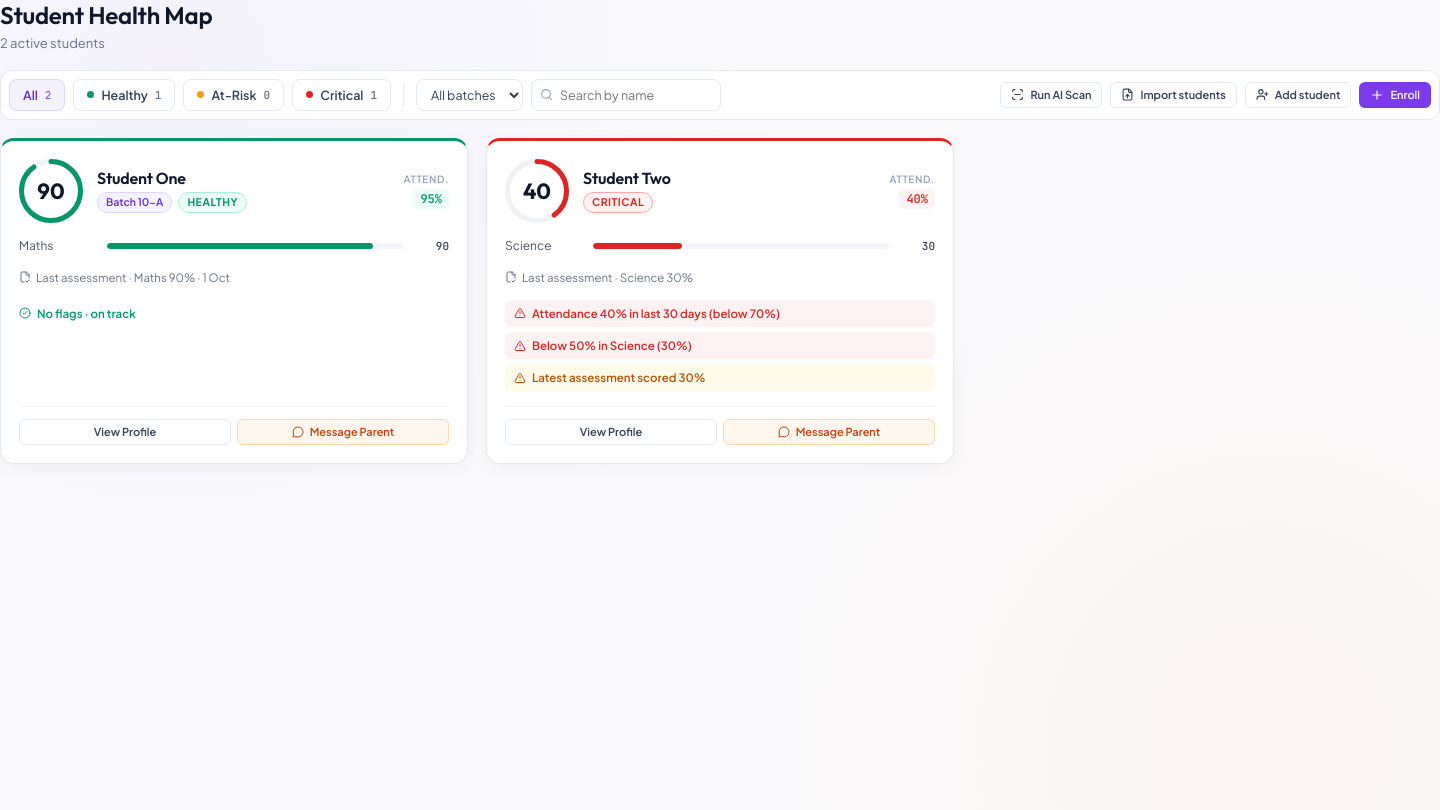
Scenario: StudentHealthView › enrolls an existing student into a batch
Expected: the heading "Student One" is shown, [97, 168, 186, 188]
Click the button "Enroll".
click(1395, 94)  # box [1359, 82, 1431, 108]
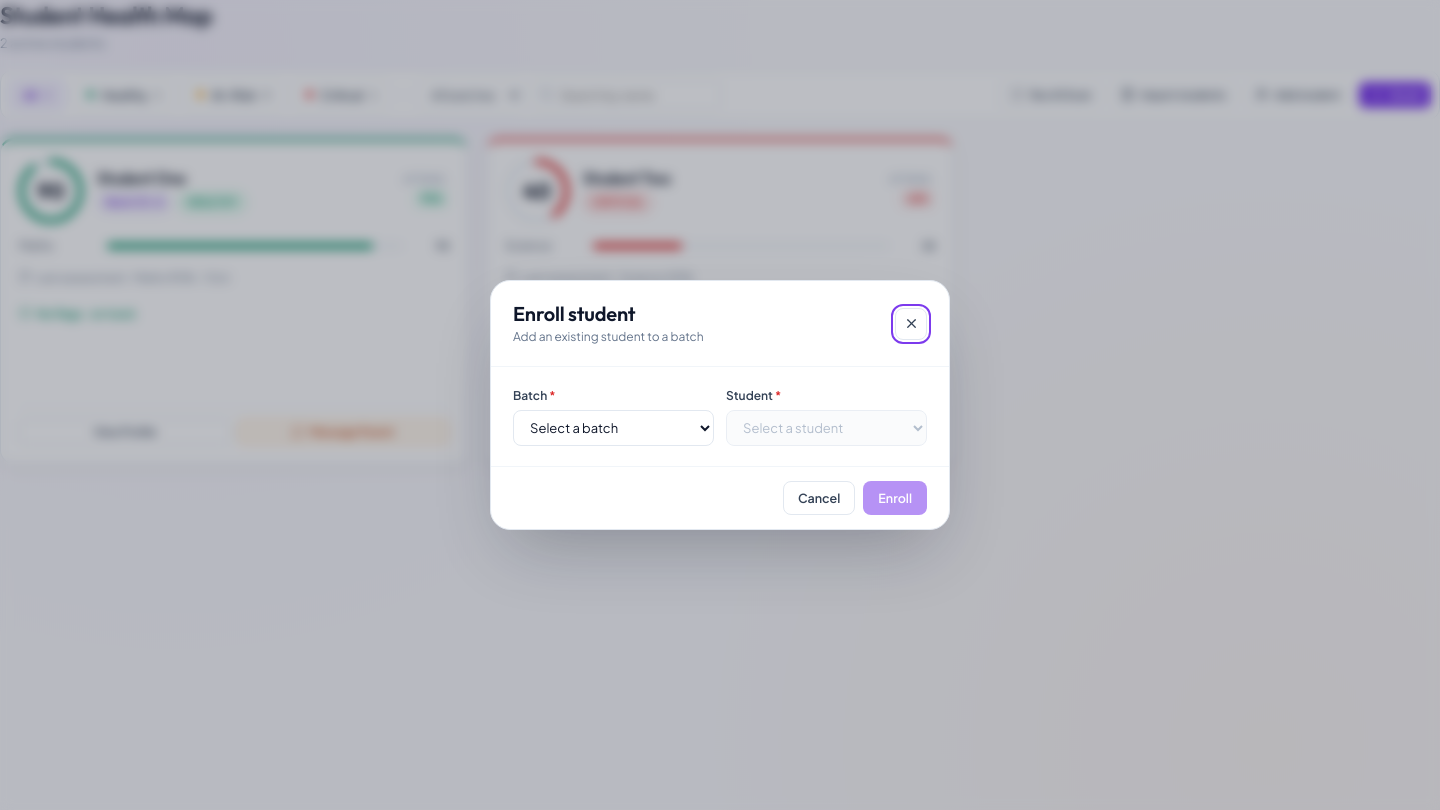
Select "Class 10 · 10-A" in the dropdown labelled "Batch*" at [614, 428], box [513, 410, 714, 446]
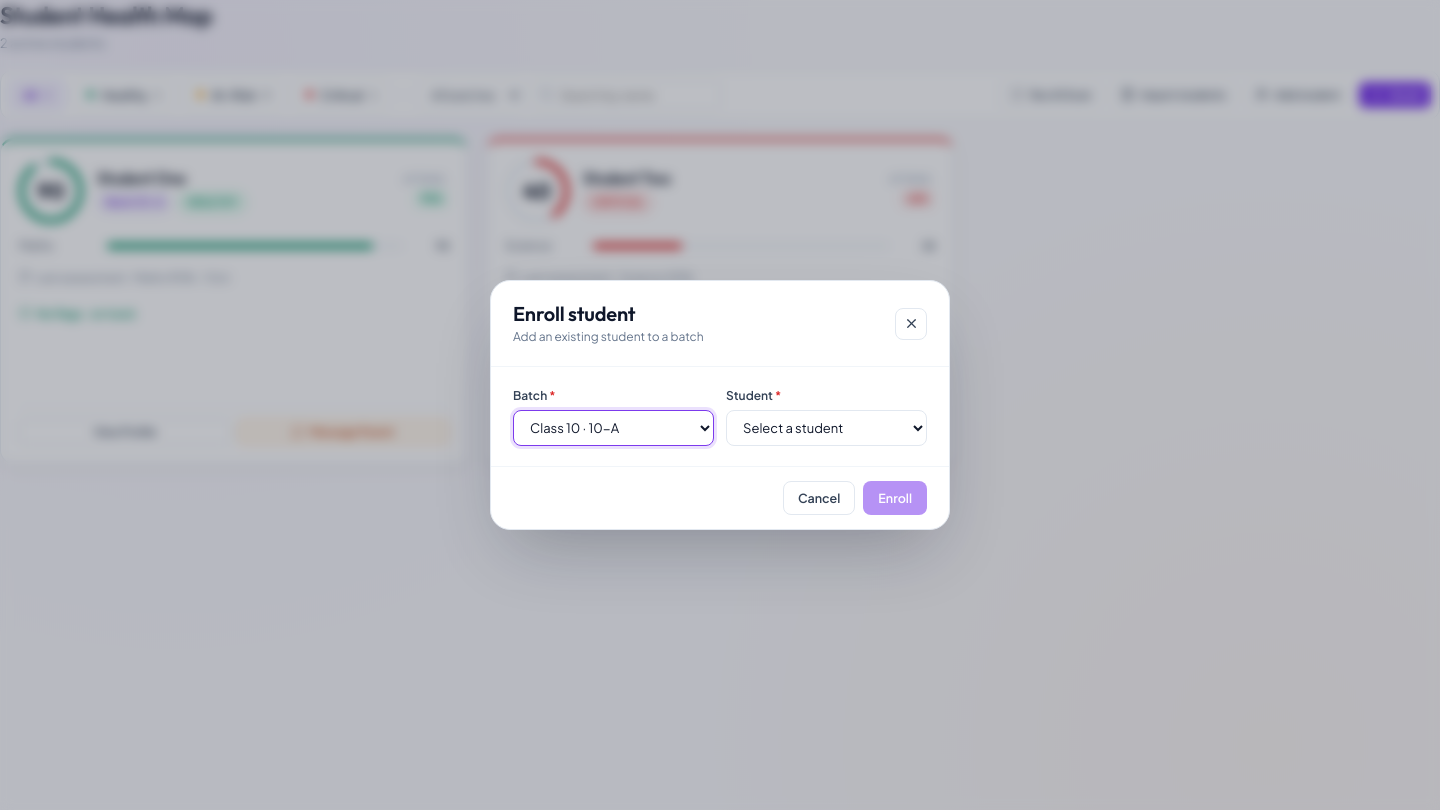
Select "Student Two (parent: Parent One)" in the dropdown labelled "Student*" at [826, 428], box [726, 410, 927, 446]
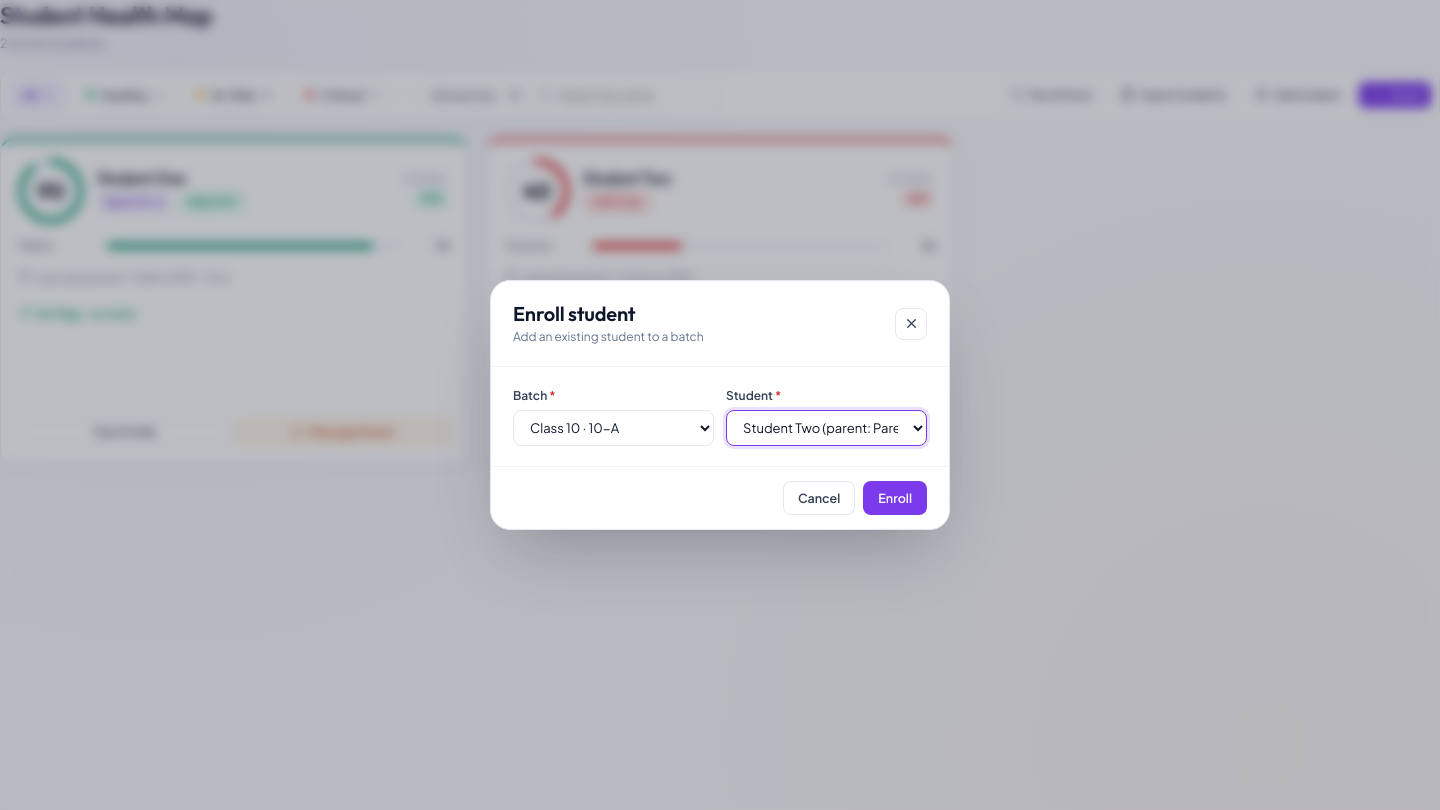
Click the button "Enroll".
click(895, 498)  # box [863, 481, 927, 515]
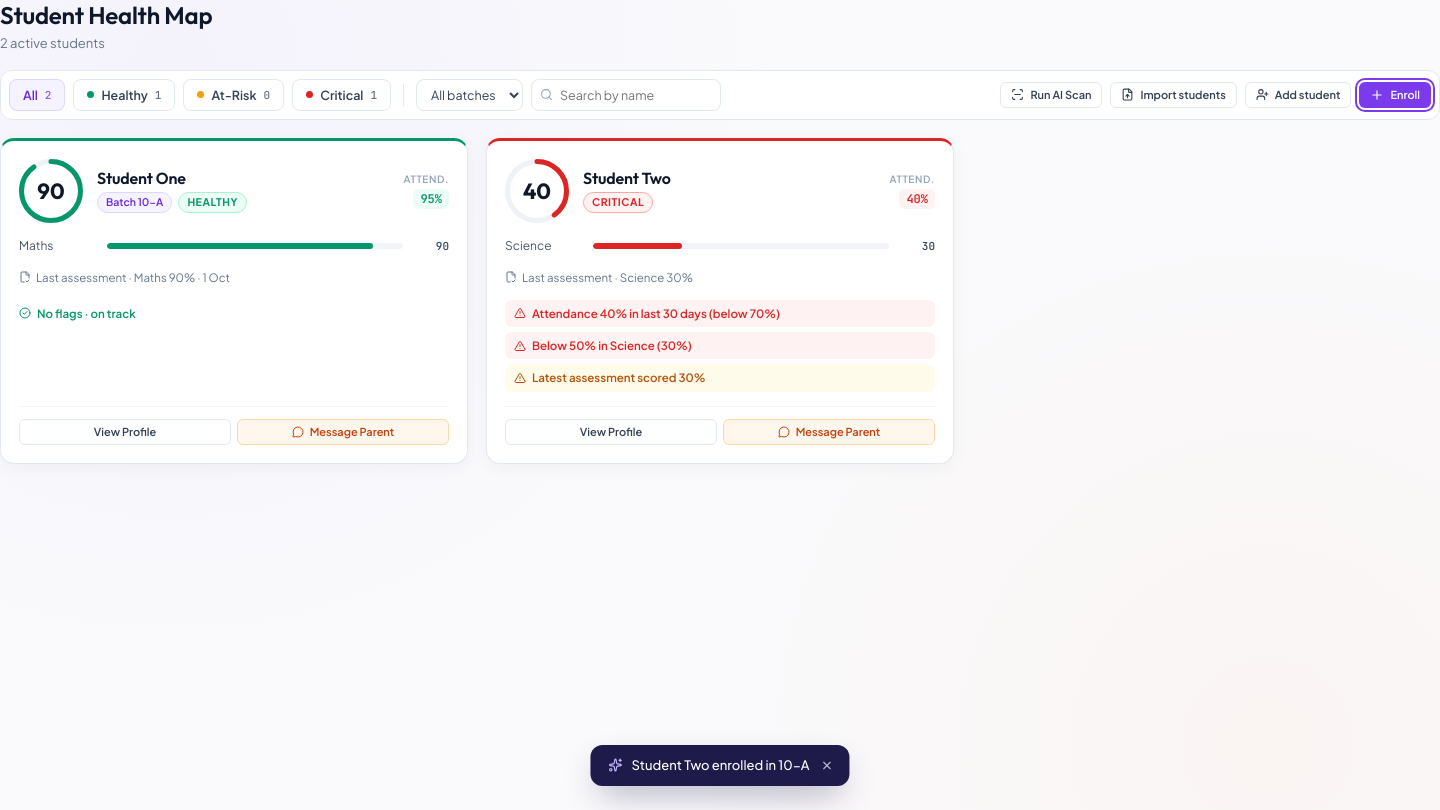
Expected: the text "Student Two enrolled in 10-A" is shown, [590, 744, 850, 786]
